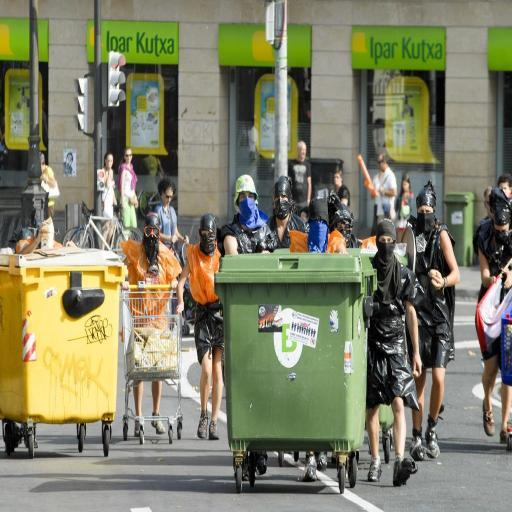trash-can: (210, 242, 370, 494), (0, 234, 123, 474)
